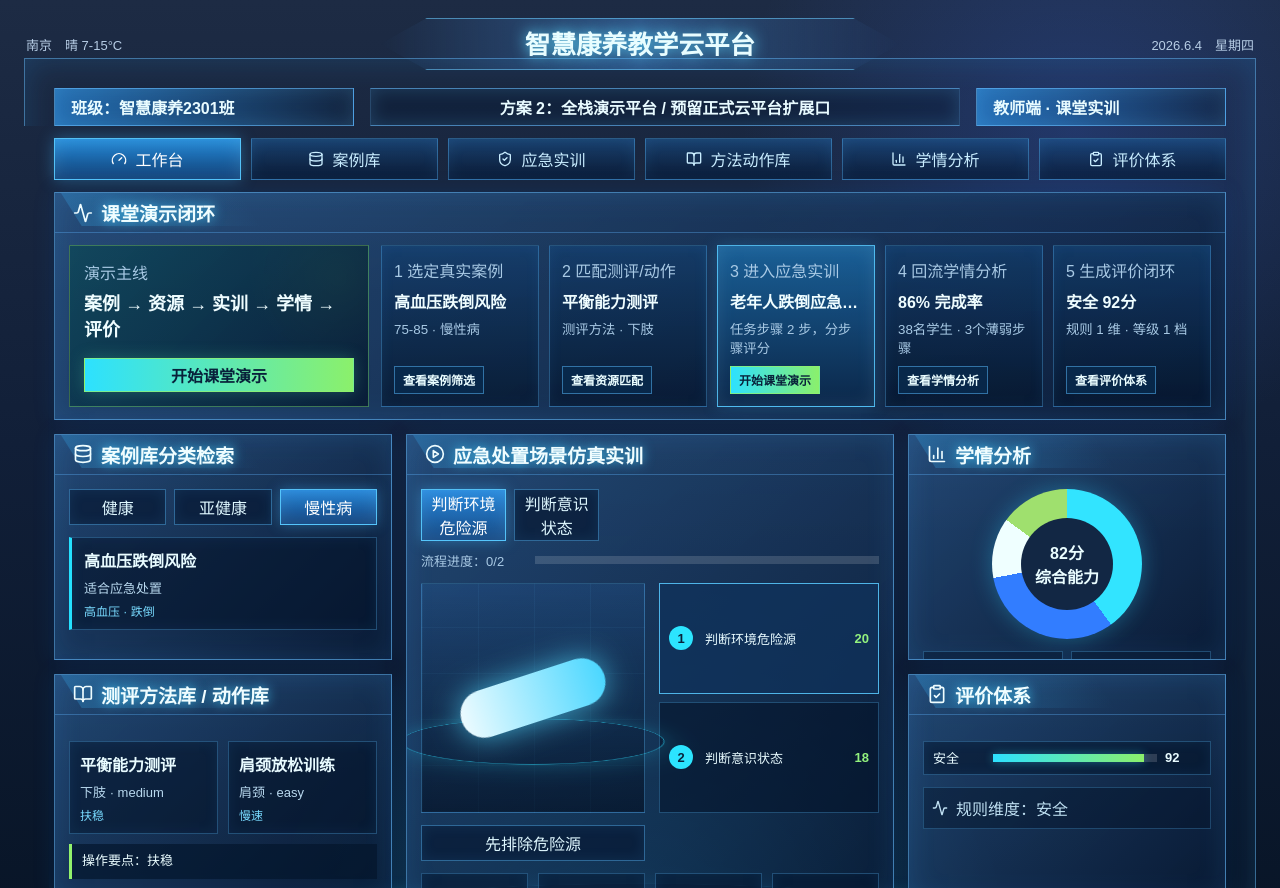
Test: App › shows evaluation levels and deduction rules
This screenshot has width=1280, height=888.
Click the button named "评价体系" at {"x": 1132, "y": 159}, box [1039,138,1226,180]
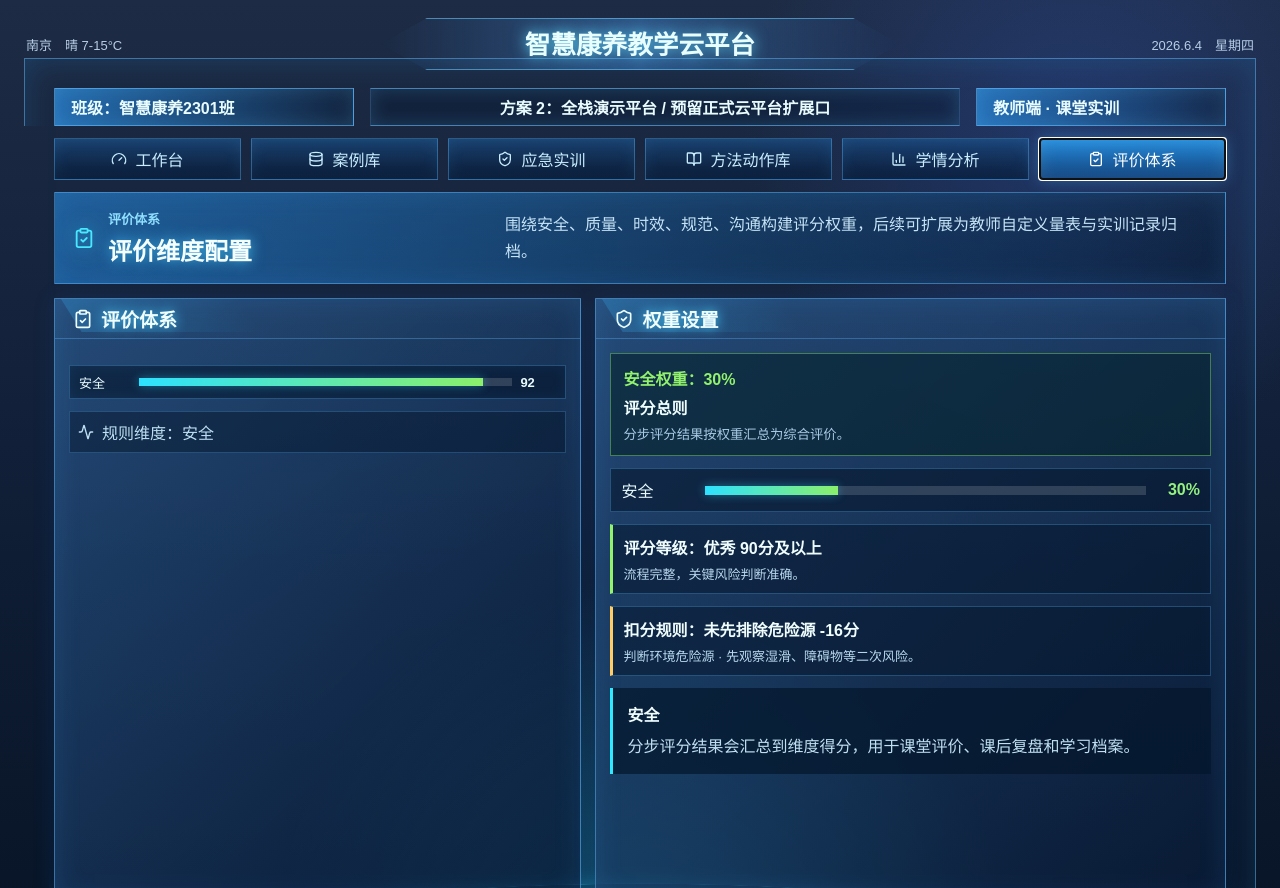
Result: the text "安全权重：30%" is shown at [623,371,736,388]
Result: the text "评分等级：优秀 90分及以上" is shown at [623,540,822,557]
Result: the text "扣分规则：未先排除危险源 -16分" is shown at [623,622,859,639]
Click the button "安全 92" at {"x": 318, "y": 382}, box [69,365,566,399]
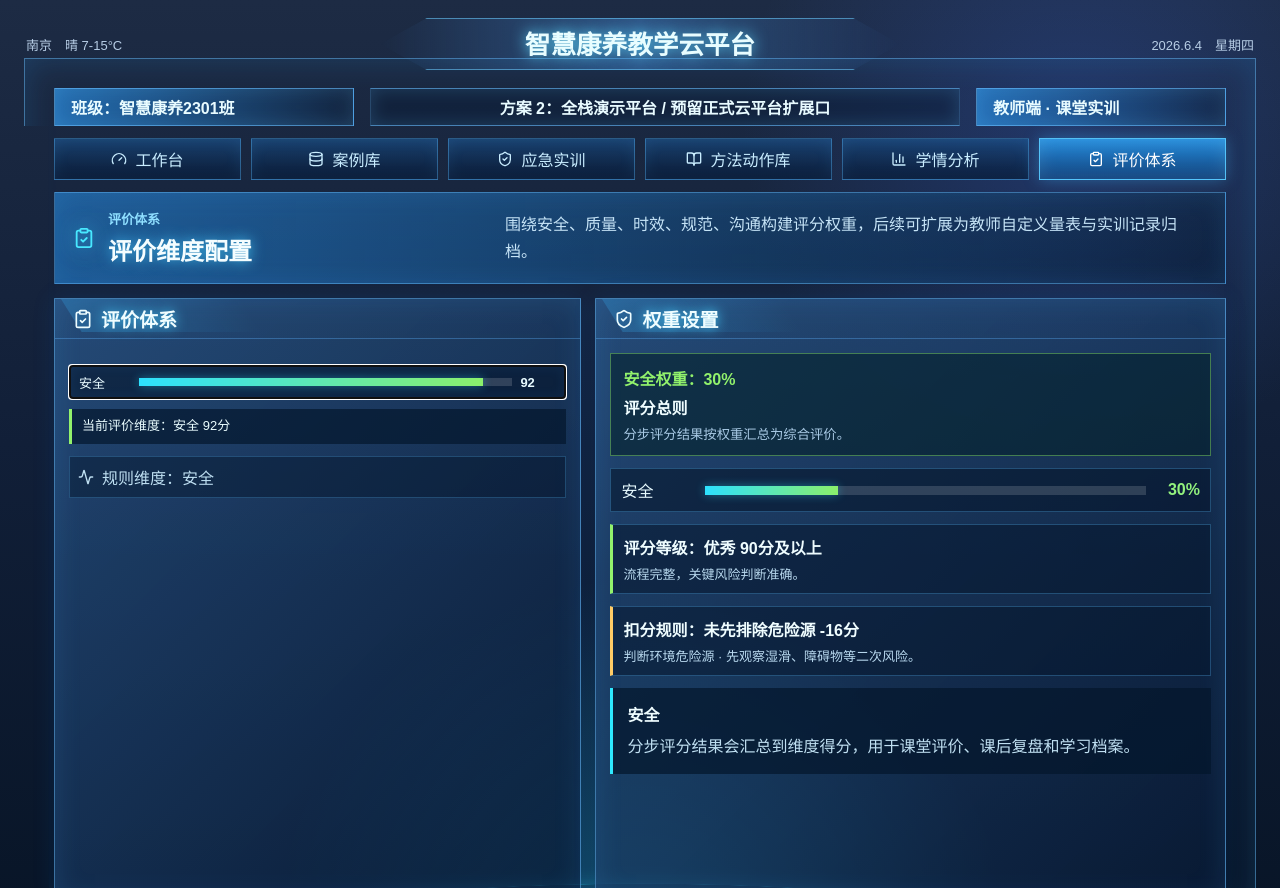
Result: the text "当前评价维度：安全 92分" is shown at [69,409,566,444]
